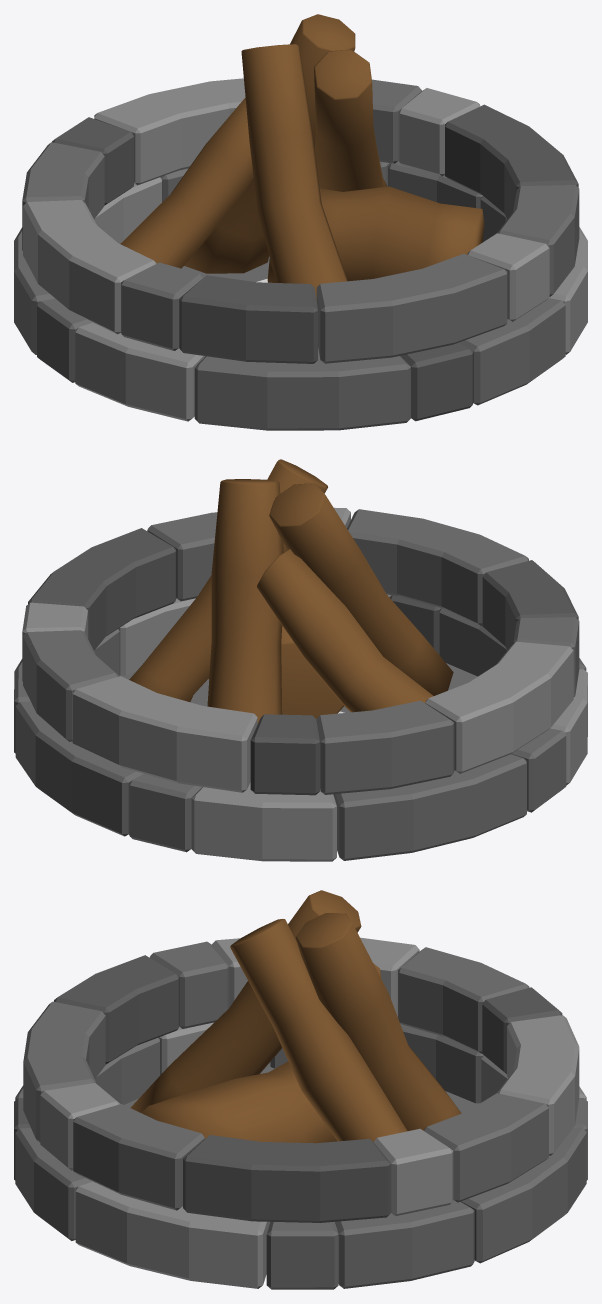
The model's file is Fogata.fbx.
3 views of the same model, one above another, from view 1: azimuth 30°, elevation 25°; view 2: azimuth 150°, elevation 25°; view 3: azimuth 270°, elevation 25° (orthographic).
Parts seen in each view (by area): view 1: Cube.009; view 2: Cube.009; view 3: Cube.009.
Part boxes in pixels (x1,y1,x2,y2): Cube.009: (14, 14, 587, 430); Cube.009: (14, 459, 587, 861); Cube.009: (14, 890, 587, 1289).
Bounding box in the file's own units: 342 × 191 × 342.
